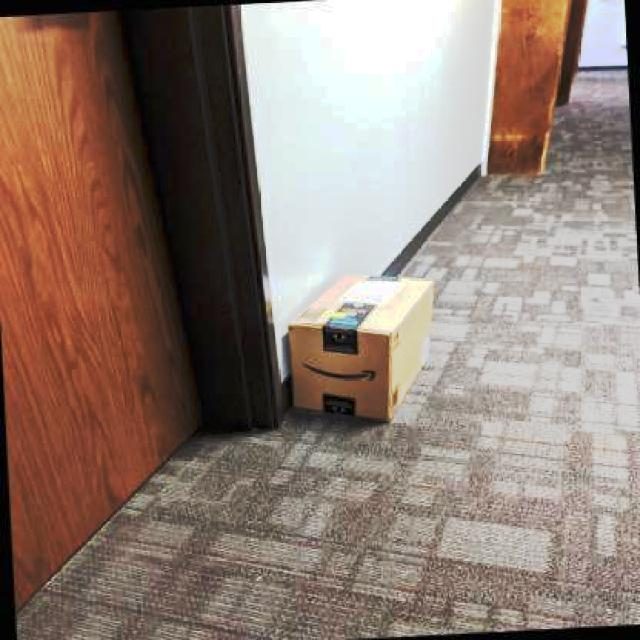Box: (276, 262, 455, 427)
